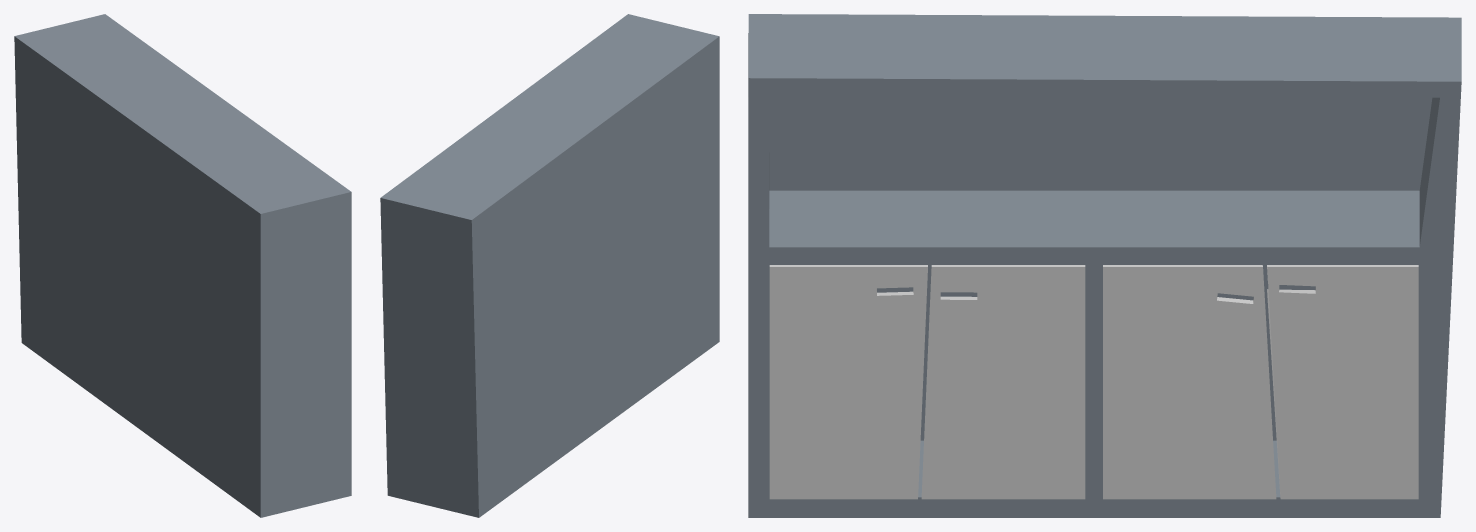
Rendered from placard.fbx.
3 renders of one model, left to right at view 1: azimuth 30°, elevation 25°; view 2: azimuth 150°, elevation 25°; view 3: azimuth 270°, elevation 25°, orthographic. The views are drawn at different scales.
Parts seen in each view (by area): view 1: placard; view 2: placard; view 3: placard, porte02, porte03, porte04, porte01.
Part boxes in pixels (<box>): placard: <box>14,14,351,517</box>; placard: <box>380,14,719,517</box>; placard: <box>748,14,1461,517</box>; porte02: <box>1103,265,1276,499</box>; porte03: <box>921,265,1085,499</box>; porte04: <box>769,265,927,499</box>; porte01: <box>1267,265,1418,499</box>.
Bounding box in the file's own units: 233 × 723 × 1062.
